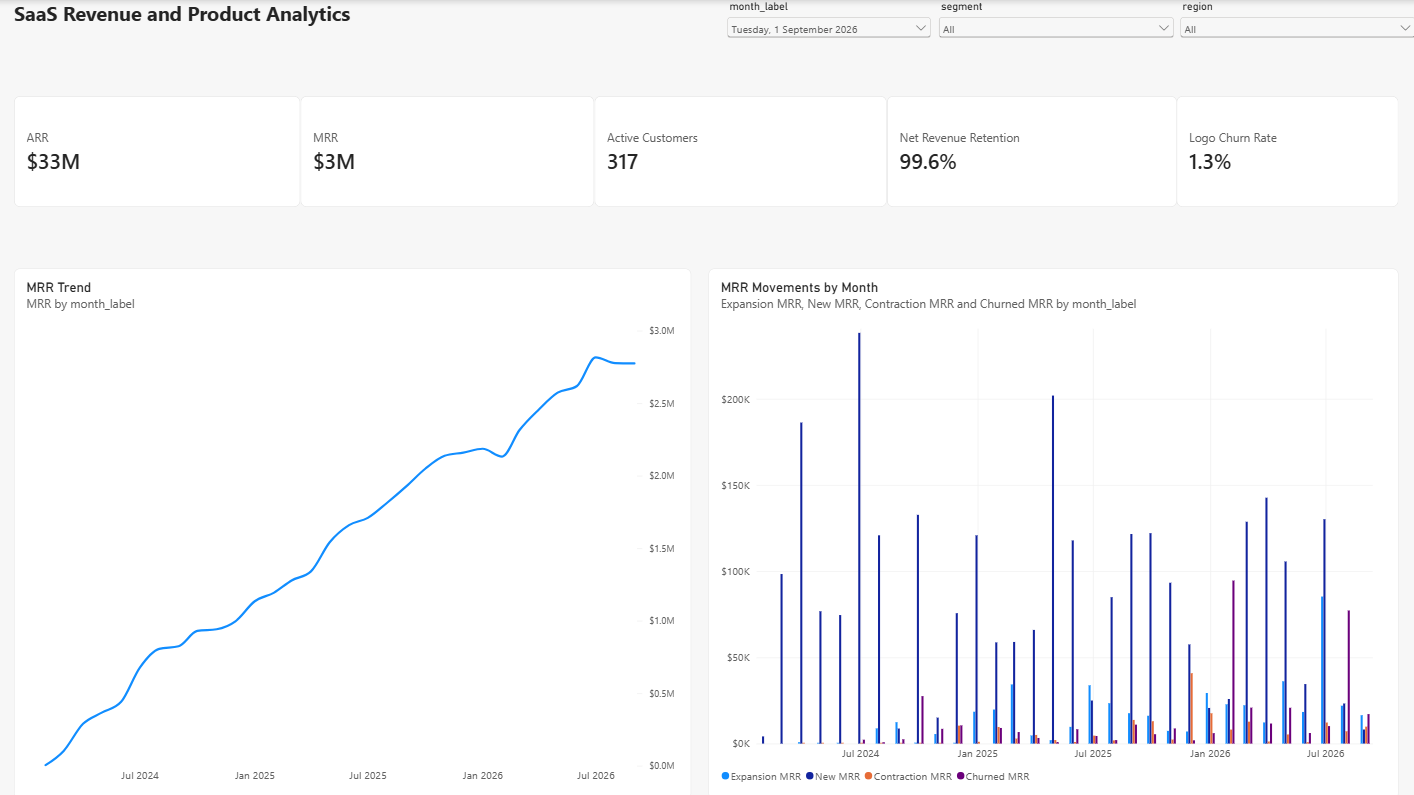

The dashboard page shown, as its layout file describes it:
{"tool":"powerbi","page":{"name":"Executive Summary","canvas":[1920,1080],"ordinal":0},"visuals":[{"type":"textbox","box":[20,0,1900,55],"z":0},{"type":"cardVisual","fields":{"Data":["_Measures.ARR"]},"box":[20,130,387.5,150],"z":1000},{"type":"cardVisual","fields":{"Data":["_Measures.MRR"]},"box":[407.5,130,397.5,150],"z":2000},{"type":"cardVisual","fields":{"Data":["_Measures.Active Customers"]},"box":[805,130,395,150],"z":3000},{"type":"cardVisual","fields":{"Data":["_Measures.Net Revenue Retention"]},"box":[1200,130,392.5,150],"z":4000},{"type":"cardVisual","fields":{"Data":["_Measures.Logo Churn Rate"]},"box":[1592.5,130,300,150],"z":5000},{"type":"lineChart","title":"MRR Trend","fields":{"Category":["dim_date.month_label"],"Y2":["_Measures.MRR"]},"box":[20,362.5,915,717.5],"z":6000},{"type":"clusteredColumnChart","title":"MRR Movements by Month","fields":{"Category":["dim_date.month_label"],"Y":["_Measures.Expansion MRR","_Measures.New MRR","_Measures.Contraction MRR","_Measures.Churned MRR"]},"box":[960,362.5,932.5,717.5],"z":7000},{"type":"slicer","fields":{"Values":["dim_date.month_label"]},"box":[980,0,285,130],"z":8000},{"type":"slicer","fields":{"Values":["dim_customers.segment"]},"box":[1265,0,327.5,130],"z":9000},{"type":"slicer","fields":{"Values":["dim_customers.region"]},"box":[1592.5,0,327.5,130],"z":10000}]}

Visuals, with their boxes in screenshot pixels (x1, y1, x2, y2), scaled from the page's 1920x1080 canvas onto the 1414x795 screenshot:
textbox: bbox=[15, 0, 1413, 40]
cardVisual - _Measures.ARR: bbox=[15, 96, 300, 206]
cardVisual - _Measures.MRR: bbox=[300, 96, 593, 206]
cardVisual - _Measures.Active Customers: bbox=[593, 96, 884, 206]
cardVisual - _Measures.Net Revenue Retention: bbox=[884, 96, 1173, 206]
cardVisual - _Measures.Logo Churn Rate: bbox=[1173, 96, 1394, 206]
"MRR Trend" lineChart: bbox=[15, 267, 689, 794]
"MRR Movements by Month" clusteredColumnChart: bbox=[707, 267, 1394, 794]
slicer - dim_date.month_label: bbox=[722, 0, 932, 96]
slicer - dim_customers.segment: bbox=[932, 0, 1173, 96]
slicer - dim_customers.region: bbox=[1173, 0, 1413, 96]
